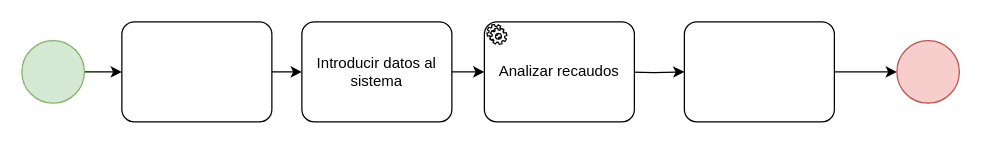
The diagram is 981 pixels wide and 144 high, and some of its shapes have lost their labels. The box of each missing label's shape, as (x1, y1, x2, y2) in pixels:
Devolver respuesta por correo: (683, 21, 834, 122)
Recibir recaudos de credito: (121, 21, 272, 122)
